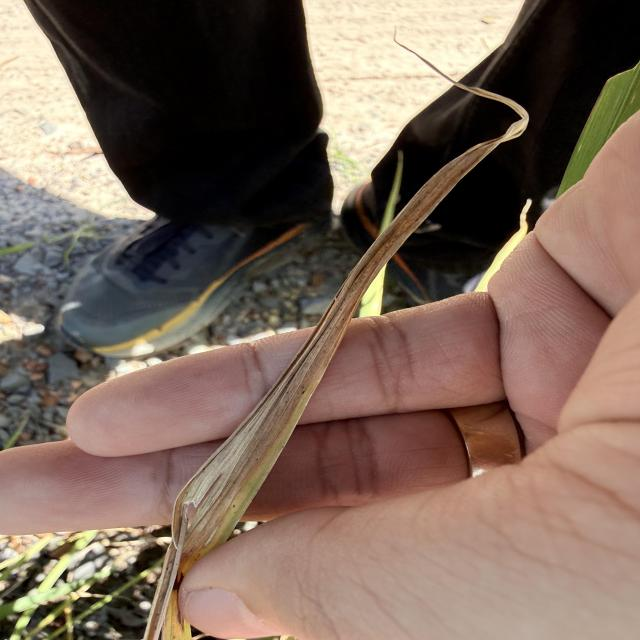Chay bia la: (145, 35, 529, 640)
